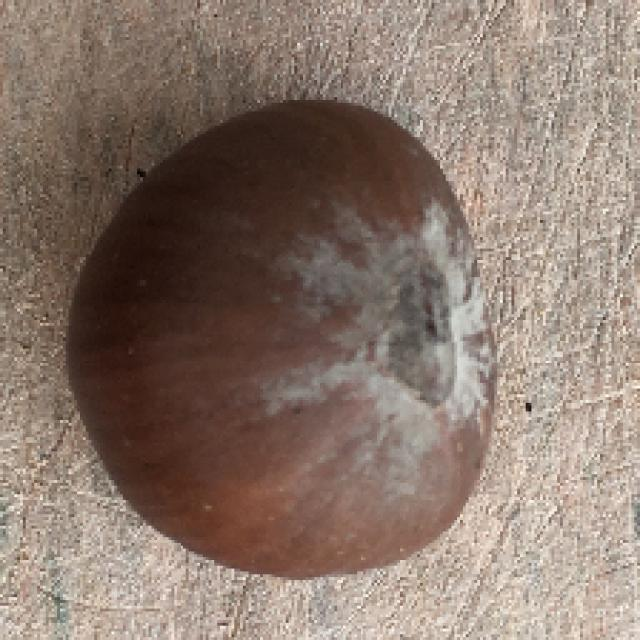damagedHazelnut: (61, 95, 507, 576)
